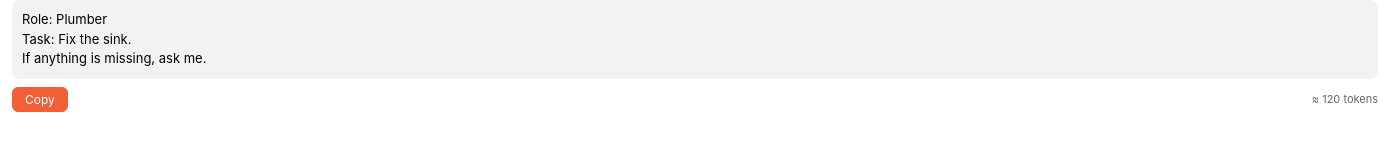
Test: ResultView › says so when the clipboard refuses
Click the button "Copy" at (40, 99), box top-left (12, 86), bottom-right (68, 112)
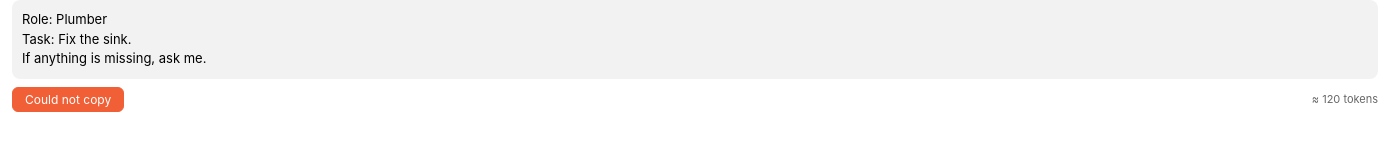
Result: the button "Could not copy" is shown at top-left (12, 86), bottom-right (124, 112)
